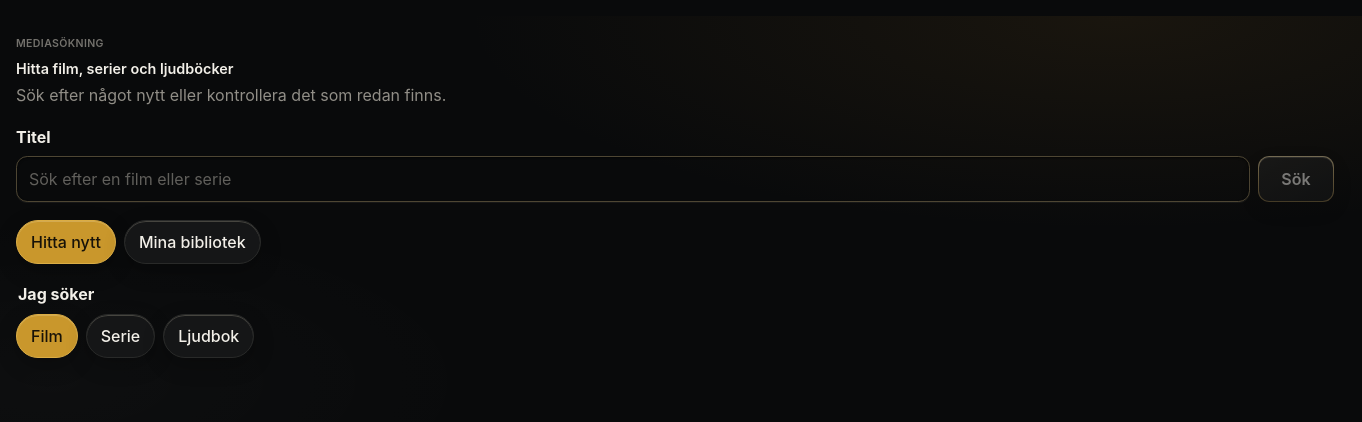
Test: does not show contextual search actions for an empty result
Type "Saknas" into the search field at [633, 179], box [16,156,1250,202]
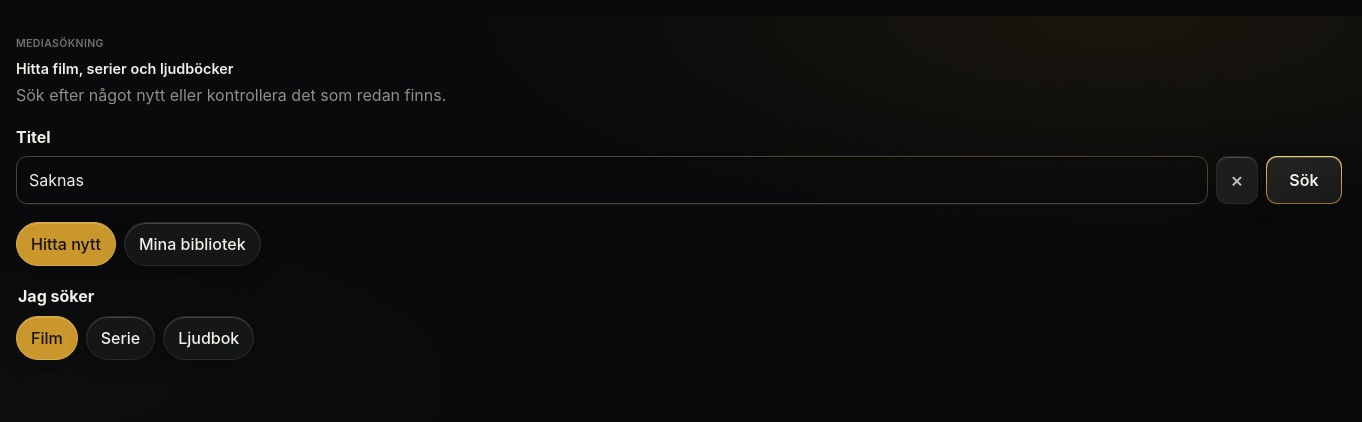
Click the button "Sök" at [1304, 180], box [1266,156,1342,204]
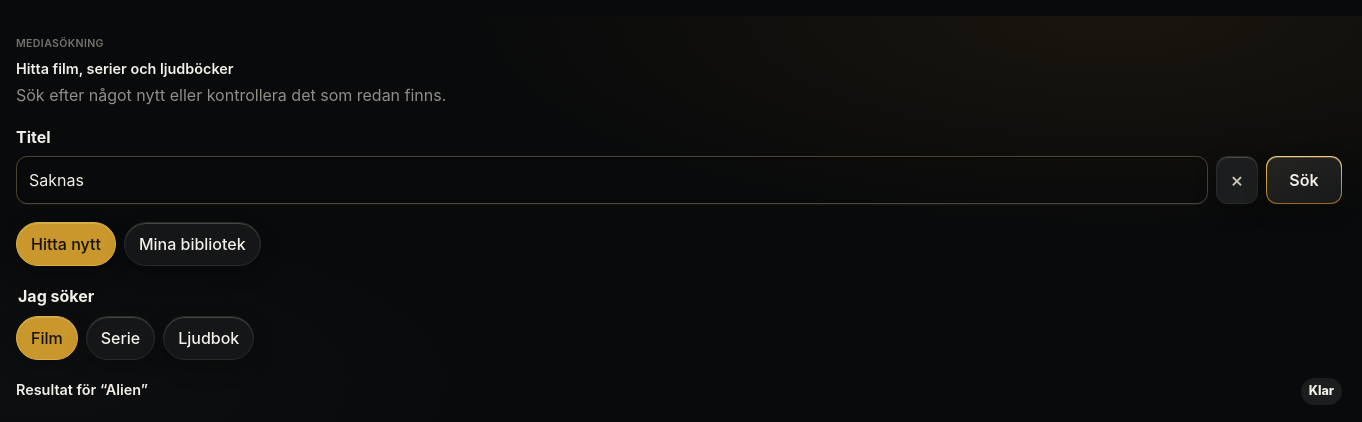
Expected: the heading "Resultat för “Alien”" is shown, [16,381,148,398]
